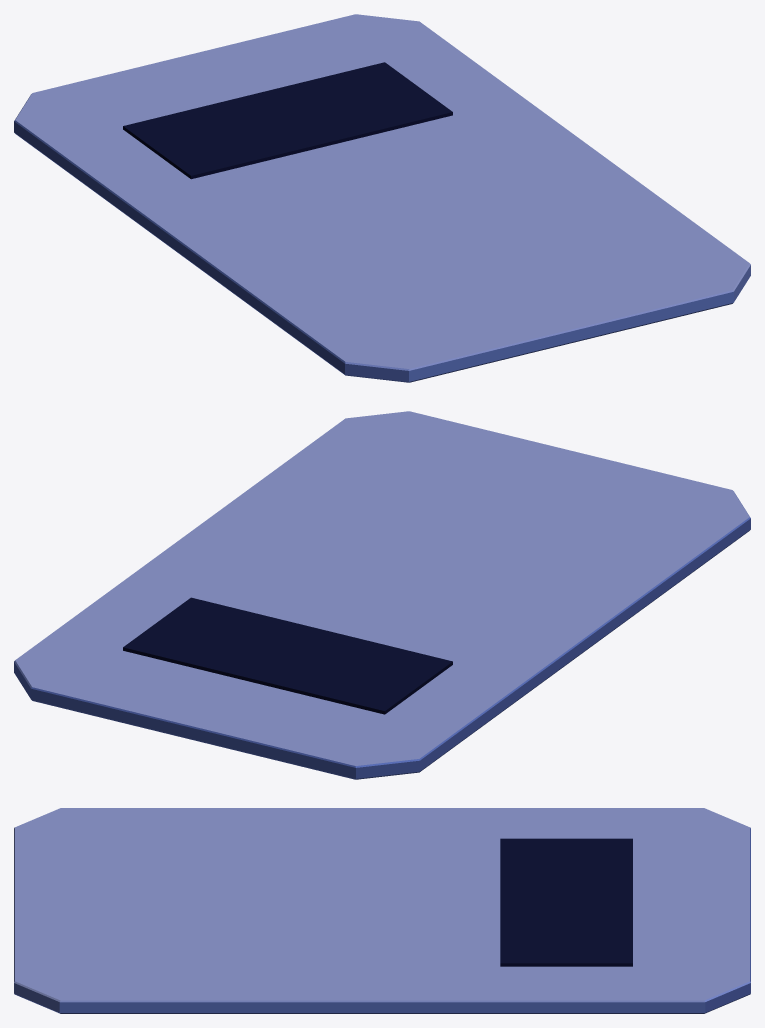
The model's file is prop.key.glb.
3 renders of one model, top to bottom at view 1: azimuth 30°, elevation 25°; view 2: azimuth 150°, elevation 25°; view 3: azimuth 270°, elevation 25°, orthographic. The views are drawn at different scales.
Parts seen in each view (by area): view 1: kit_key; view 2: kit_key; view 3: kit_key.
Boxes of the visible parts, x1,y1,x2,y2 form: kit_key: [14, 14, 750, 382]; kit_key: [14, 411, 750, 779]; kit_key: [14, 808, 750, 1013].
Bounding box in the file's own units: 0.0496 × 0.002 × 0.08.
